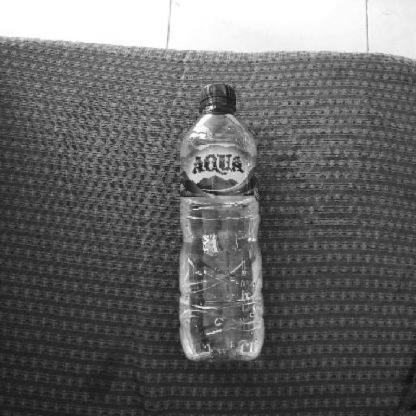plastic_bottles: (176, 80, 268, 366)
